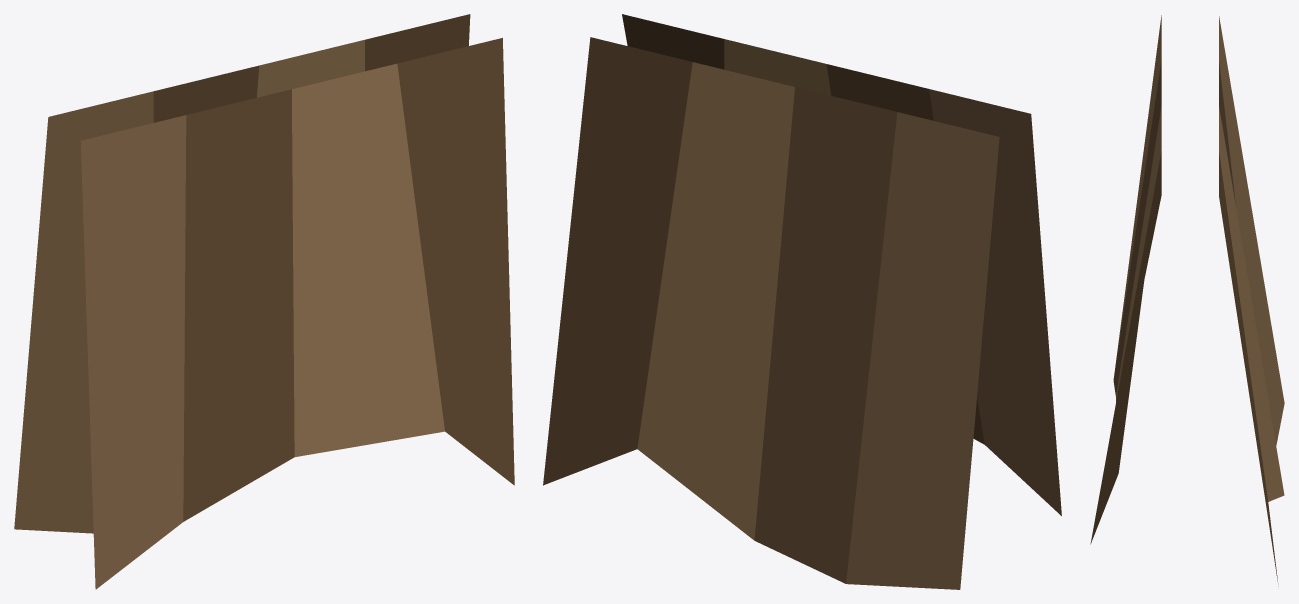
Rendered from drying_rack_pelle.glb.
3 renders of one model, left to right at view 1: azimuth 30°, elevation 25°; view 2: azimuth 150°, elevation 25°; view 3: azimuth 270°, elevation 25°, orthographic. The views are drawn at different scales.
Parts seen in each view (by area): view 1: drying_rack_pelle; view 2: drying_rack_pelle; view 3: drying_rack_pelle.
Part boxes in pixels (x1,y1,x2,y2): drying_rack_pelle: (14,14,514,589); drying_rack_pelle: (543,14,1061,589); drying_rack_pelle: (1090,15,1284,586).
Size of the model in its own units: 0.7911 by 0.8016 by 0.3396.
